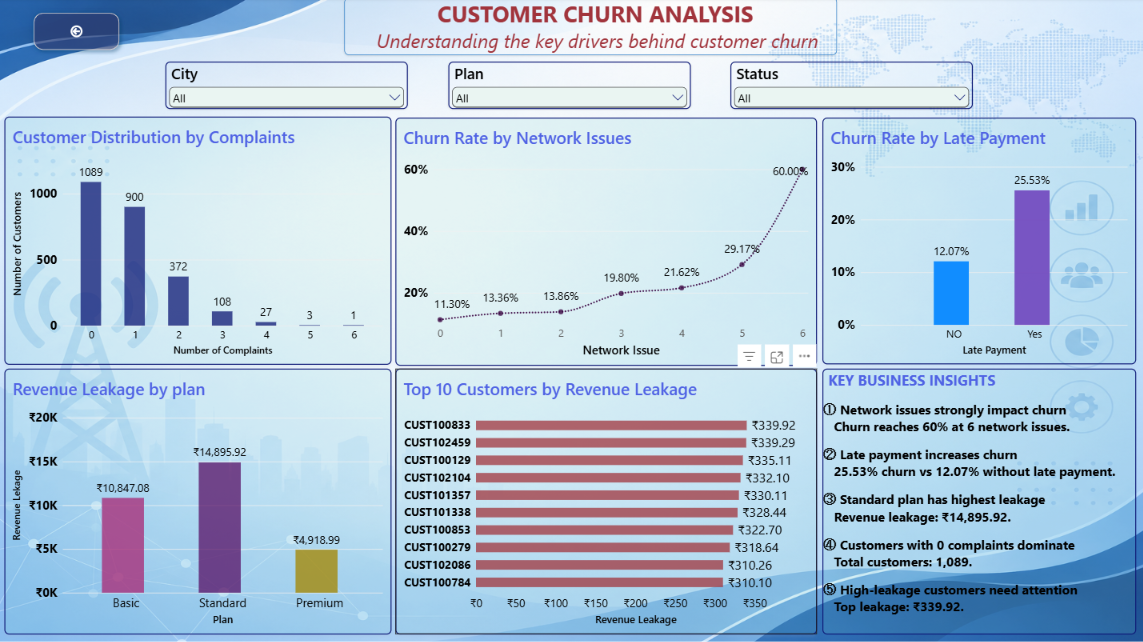

The dashboard page shown, as its layout file describes it:
{"tool":"powerbi","page":{"name":"Customer Churn Analysis","canvas":[1920,1080],"ordinal":1},"visuals":[{"type":"clusteredColumnChart","title":"Customer Distribution by Complaints","fields":{"Category":["Data.complaints"],"Y":["Data.Customer count"]},"box":[16,198,646,414],"z":0},{"type":"textbox","box":[584.3,0,822.3,96],"z":1000},{"type":"lineChart","title":"Churn Rate by Network Issues","fields":{"Category":["Data.network_issues"],"Y":["Data.Churn Rate"]},"box":[670,200,704,414],"z":2000},{"type":"clusteredColumnChart","title":"Churn Rate by Late Payment","fields":{"Y":["Data.Churn Rate"],"Category":["Data.Late Payment"]},"box":[1382,200,524,412],"z":3000},{"type":"clusteredBarChart","title":"Top 10 Customers by Revenue Leakage","fields":{"Y":["Data.Revenue Leakage"],"Category":["Data.customer_id"]},"box":[670,620,704,444],"z":4000},{"type":"clusteredColumnChart","fields":{"Y":["Data.Revenue Leakage"],"Category":["Data.plan"]},"box":[16,620,646,444],"z":5000},{"type":"slicer","fields":{"Values":["Data.city"]},"box":[285.9,106.4,404.9,79.3],"z":6000},{"type":"textbox","box":[1382,620,524,444],"z":7000},{"type":"actionButton","box":[56.3,16.7,160.7,79.3],"z":8000},{"type":"slicer","fields":{"Values":["Data.plan"]},"box":[757.6,106.4,404.9,79.3],"z":9000},{"type":"slicer","fields":{"Values":["Data.status"]},"box":[1229.2,106.4,404.9,79.3],"z":10000}]}

Visuals, with their boxes in screenshot pixels (x1, y1, x2, y2), scaled from the page's 1920x1080 canvas onto the 1143x642 screenshot:
"Customer Distribution by Complaints" clusteredColumnChart: bbox=[10, 118, 394, 364]
textbox: bbox=[348, 0, 837, 57]
"Churn Rate by Network Issues" lineChart: bbox=[399, 119, 818, 365]
"Churn Rate by Late Payment" clusteredColumnChart: bbox=[823, 119, 1135, 364]
"Top 10 Customers by Revenue Leakage" clusteredBarChart: bbox=[399, 369, 818, 632]
clusteredColumnChart - Data.Revenue Leakage x Data.plan: bbox=[10, 369, 394, 632]
slicer - Data.city: bbox=[170, 63, 411, 110]
textbox: bbox=[823, 369, 1135, 632]
actionButton: bbox=[34, 10, 129, 57]
slicer - Data.plan: bbox=[451, 63, 692, 110]
slicer - Data.status: bbox=[732, 63, 973, 110]
